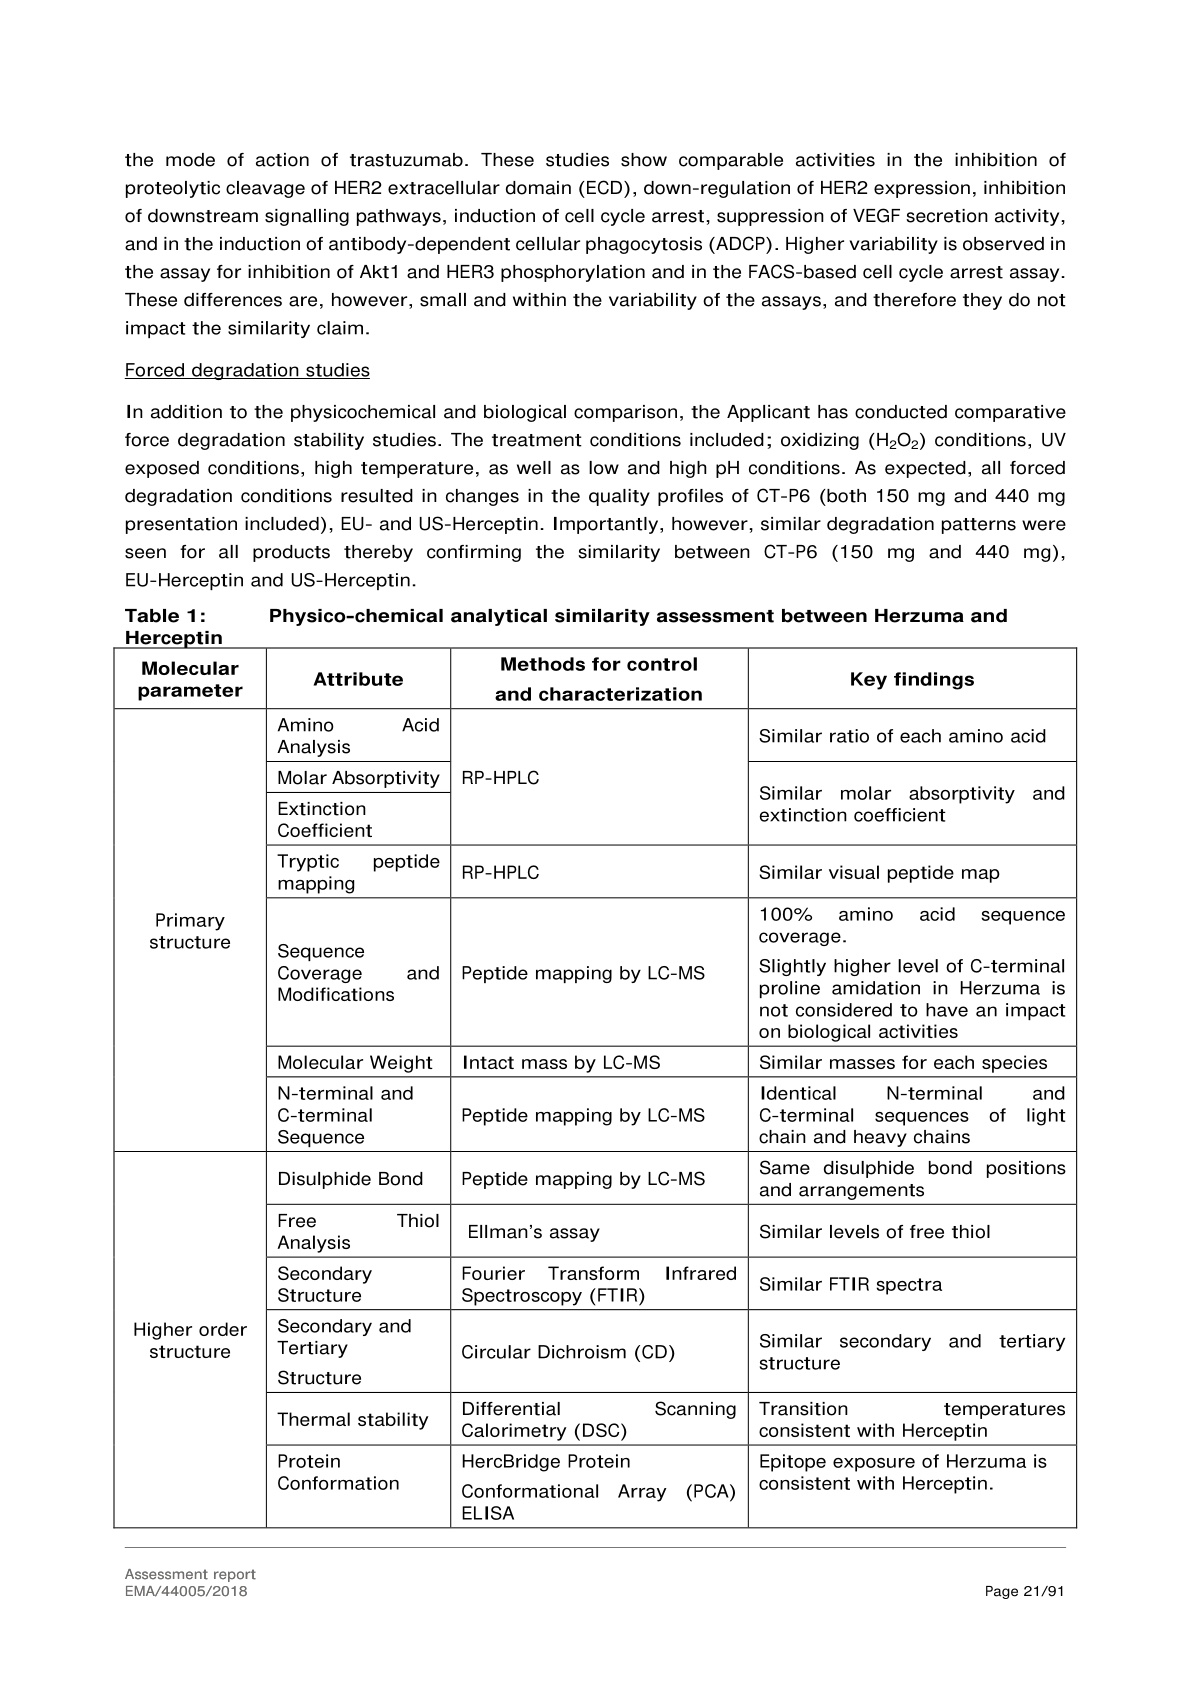merged_cells: (111, 647, 1078, 1529)
